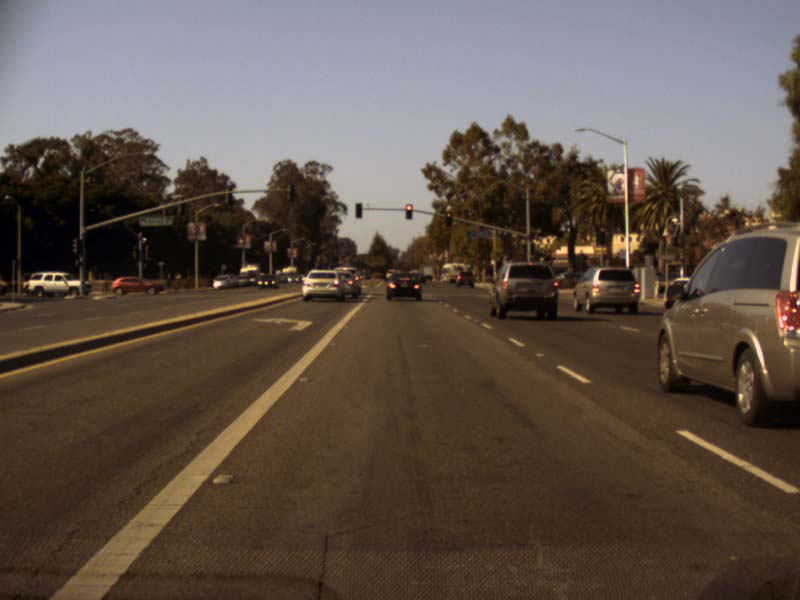Red: (445, 212, 451, 226), (405, 205, 411, 218)
